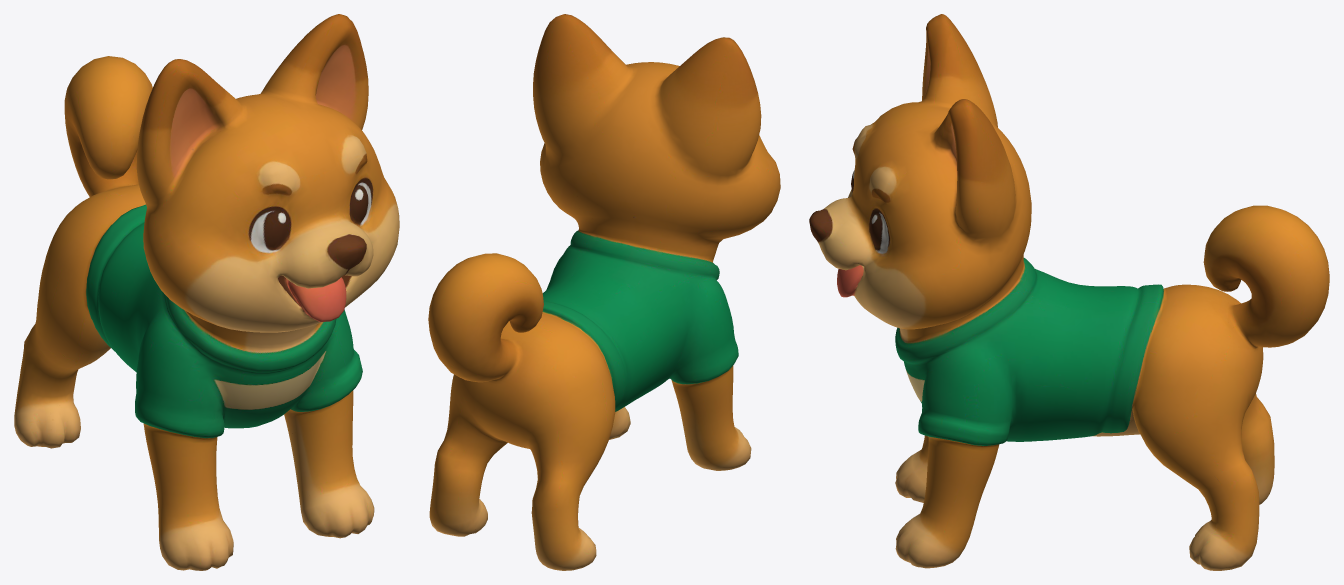
The model's file is dog_jina_tripo.glb.
The picture shows the model from 3 angles, left to right: view 1: azimuth 30°, elevation 25°; view 2: azimuth 150°, elevation 25°; view 3: azimuth 270°, elevation 25°; orthographic projection. The views are drawn at different scales.
Parts seen in each view (by area): view 1: tripo_node_1bfdd7a1; view 2: tripo_node_1bfdd7a1; view 3: tripo_node_1bfdd7a1.
Boxes of the visible parts, x1,y1,x2,y2 form: tripo_node_1bfdd7a1: [14, 14, 399, 570]; tripo_node_1bfdd7a1: [428, 14, 780, 570]; tripo_node_1bfdd7a1: [809, 14, 1329, 570].
Bounding box in the file's own units: 50.52 × 97.9 × 97.69.
Materials: 1 (1 with a texture image).
